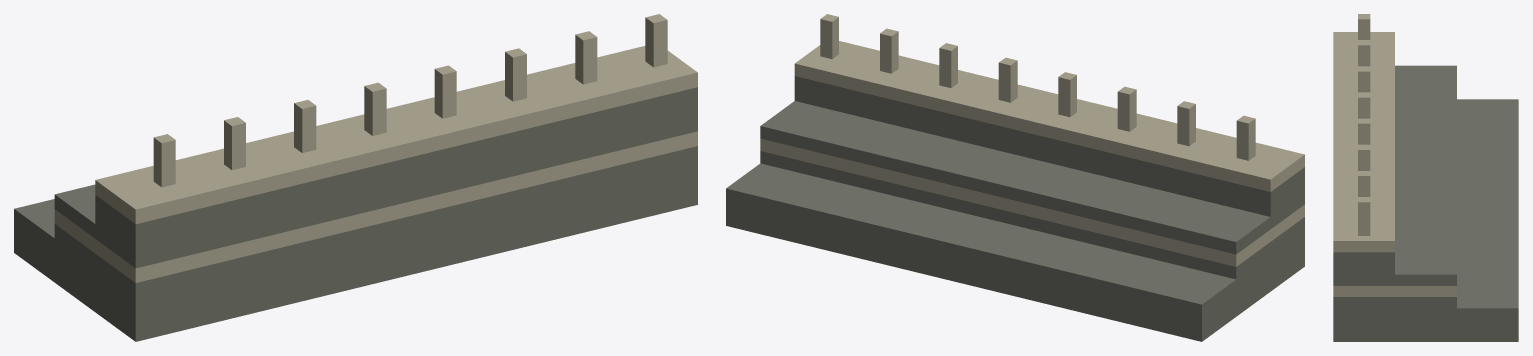
3 views of the same model, side by side, from view 1: azimuth 30°, elevation 25°; view 2: azimuth 150°, elevation 25°; view 3: azimuth 270°, elevation 25° (orthographic). The views are drawn at different scales.
Visible parts, largest first — view 1: 院廊外缘0.2m地形支撑衔接; view 2: 院廊外缘0.2m地形支撑衔接; view 3: 院廊外缘0.2m地形支撑衔接.
Part boxes in pixels (<box>): 院廊外缘0.2m地形支撑衔接: <box>14,14,697,341</box>; 院廊外缘0.2m地形支撑衔接: <box>726,14,1304,341</box>; 院廊外缘0.2m地形支撑衔接: <box>1333,14,1518,341</box>.
Bounding box in the file's own units: 8 × 2.4 × 3.
2 materials, 2 textured.
